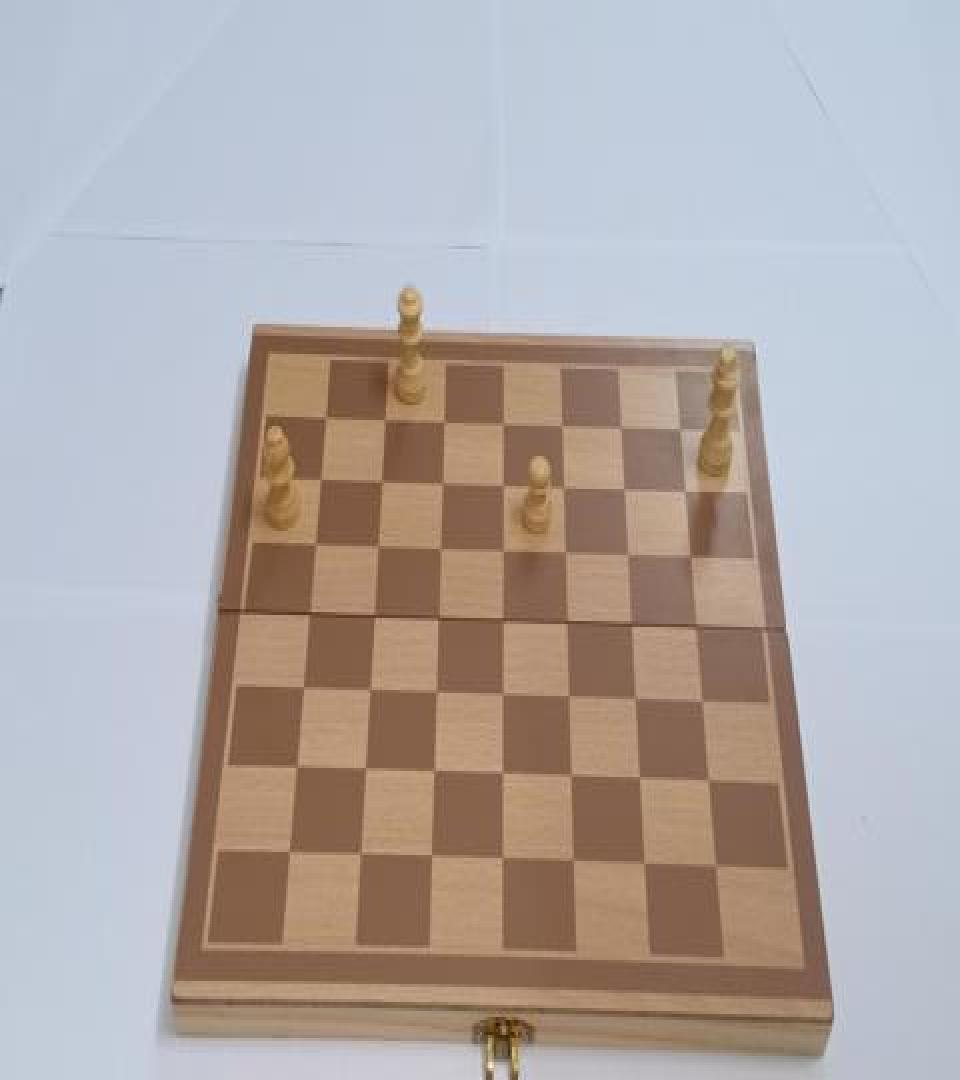xcorner: (373, 406, 391, 434), (492, 472, 510, 500), (613, 478, 631, 506), (669, 418, 687, 446), (314, 404, 332, 431), (309, 465, 327, 492), (303, 531, 321, 558), (297, 600, 315, 627), (291, 675, 309, 702), (284, 755, 302, 782), (277, 838, 295, 865), (370, 468, 388, 495), (366, 534, 384, 561), (362, 603, 380, 630), (358, 678, 376, 705), (431, 471, 449, 498), (427, 606, 445, 633), (423, 759, 441, 786), (421, 844, 439, 871), (491, 411, 509, 438), (492, 538, 510, 565), (492, 609, 510, 636), (492, 683, 510, 710), (492, 762, 510, 789), (551, 414, 569, 441), (557, 610, 575, 637), (562, 765, 580, 792), (564, 851, 582, 878), (610, 415, 628, 442), (617, 543, 635, 570), (626, 689, 644, 716), (631, 768, 649, 795), (674, 480, 692, 507), (680, 546, 698, 573), (686, 617, 704, 644), (693, 690, 711, 717), (700, 771, 718, 798), (708, 855, 726, 882), (354, 758, 372, 784), (349, 842, 367, 868), (432, 410, 450, 436), (429, 536, 447, 562), (425, 680, 443, 706), (493, 848, 511, 874), (553, 476, 571, 502), (555, 542, 573, 568), (559, 686, 577, 712), (622, 614, 640, 640), (636, 854, 654, 880)
